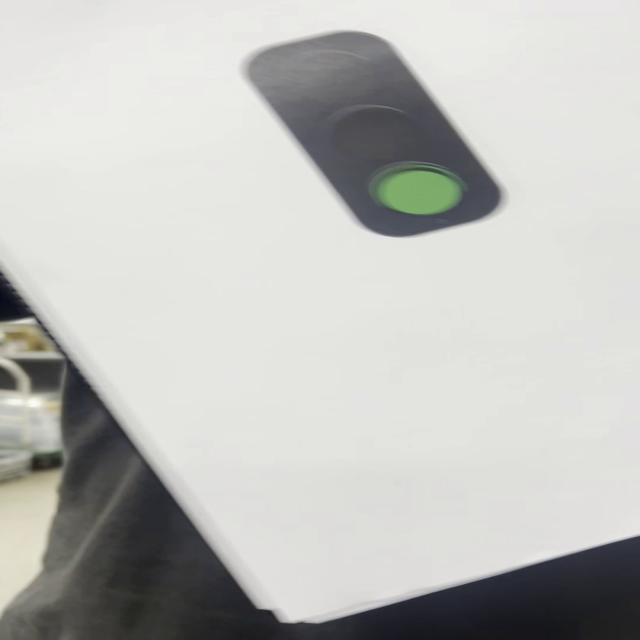green: (244, 27, 512, 240)
